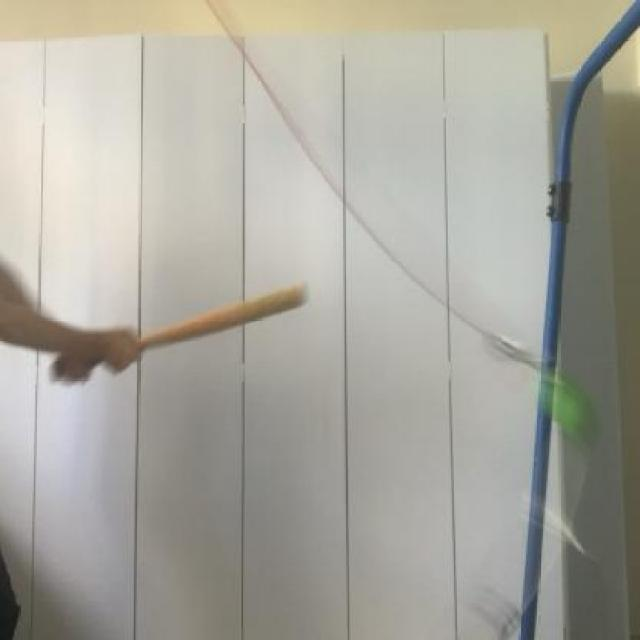baseball: (532, 372, 606, 451)
